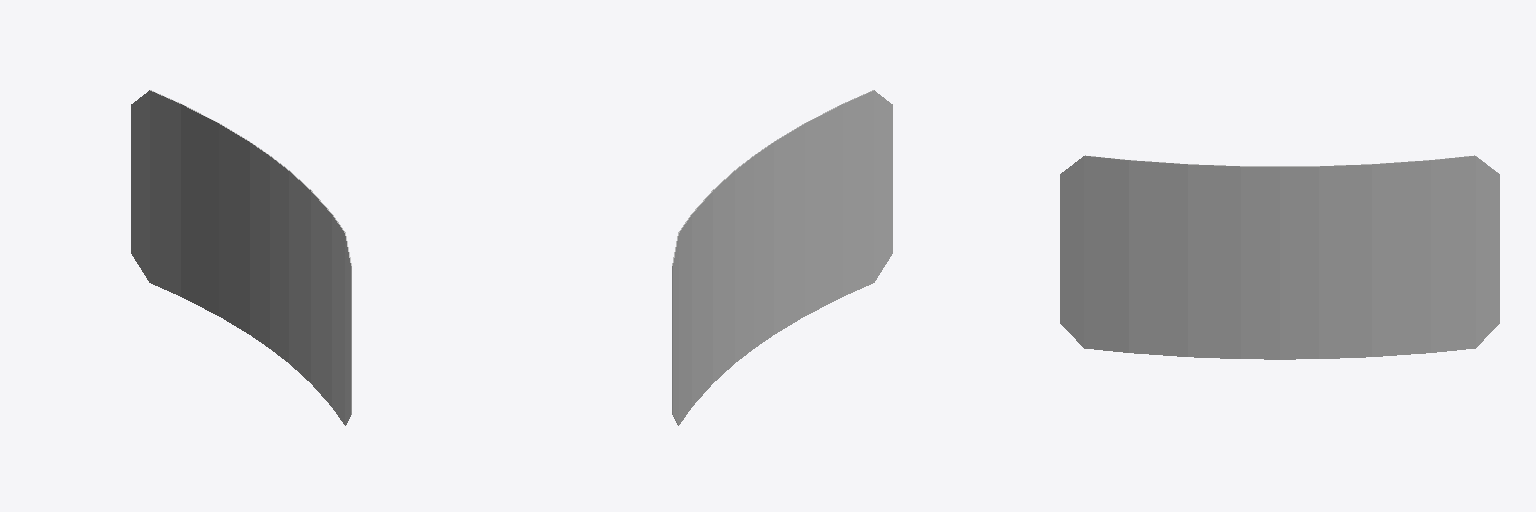
File: shieldTransparancy.obj
The picture shows the model from 3 angles: view 1: azimuth 30°, elevation 25°; view 2: azimuth 150°, elevation 25°; view 3: azimuth 270°, elevation 25°; orthographic projection.
Parts seen in each view (by area): view 1: shieldtransparency; view 2: shieldtransparency; view 3: shieldtransparency.
Part boxes in pixels (left/top/right/bottom): shieldtransparency: left=131, top=90, right=351, bottom=425; shieldtransparency: left=672, top=90, right=892, bottom=425; shieldtransparency: left=1060, top=155, right=1499, bottom=359.
Bounding box in the file's own units: 0.3253 × 2.01 × 4.16.